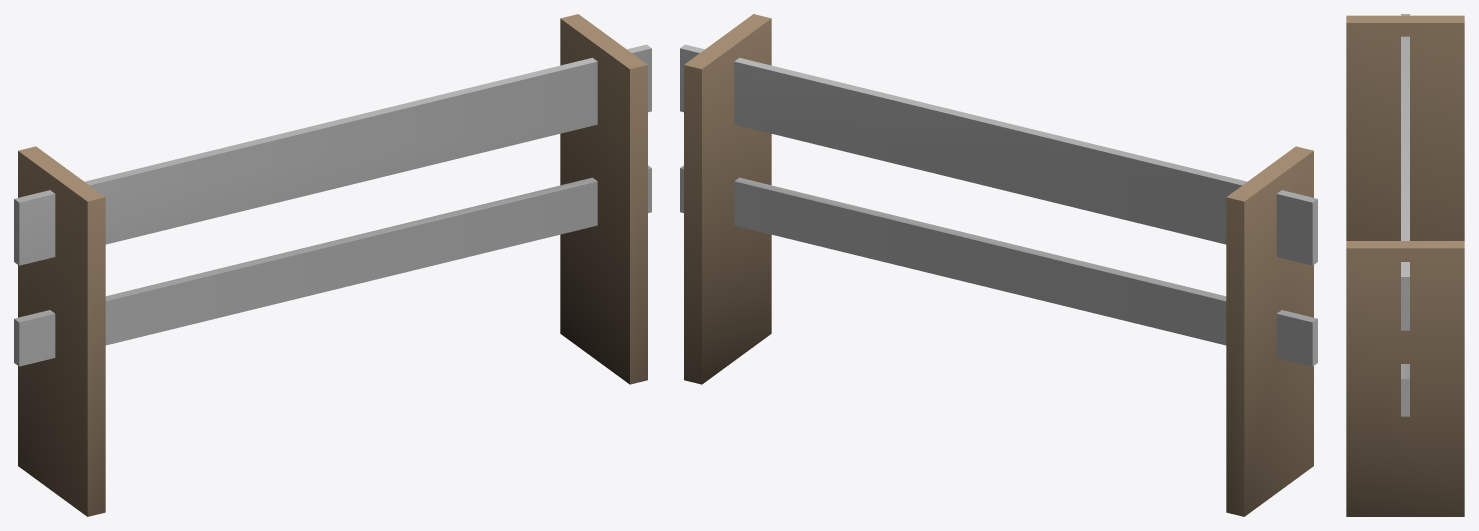
The model's file is barrier_wood.glb.
The picture shows the model from 3 angles, left to right: view 1: azimuth 30°, elevation 25°; view 2: azimuth 150°, elevation 25°; view 3: azimuth 270°, elevation 25°; orthographic projection. The views are drawn at different scales.
Visible parts, largest first — view 1: barrier_wood; view 2: barrier_wood; view 3: barrier_wood.
Part boxes in pixels (box(x1,y1,x2,y2)): barrier_wood: box(14, 14, 651, 516); barrier_wood: box(680, 14, 1317, 516); barrier_wood: box(1346, 14, 1464, 516).
Size of the model in its own units: 2.1 by 1 by 0.4.
